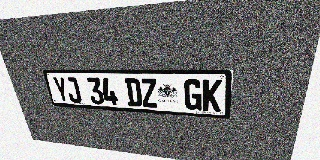3: (86, 77, 105, 105)
4: (100, 78, 118, 105)
D: (124, 78, 143, 107)
G: (184, 79, 202, 111)
J: (64, 77, 82, 103)
K: (202, 79, 222, 112)
Y: (52, 77, 70, 102)
Z: (140, 78, 158, 108)
